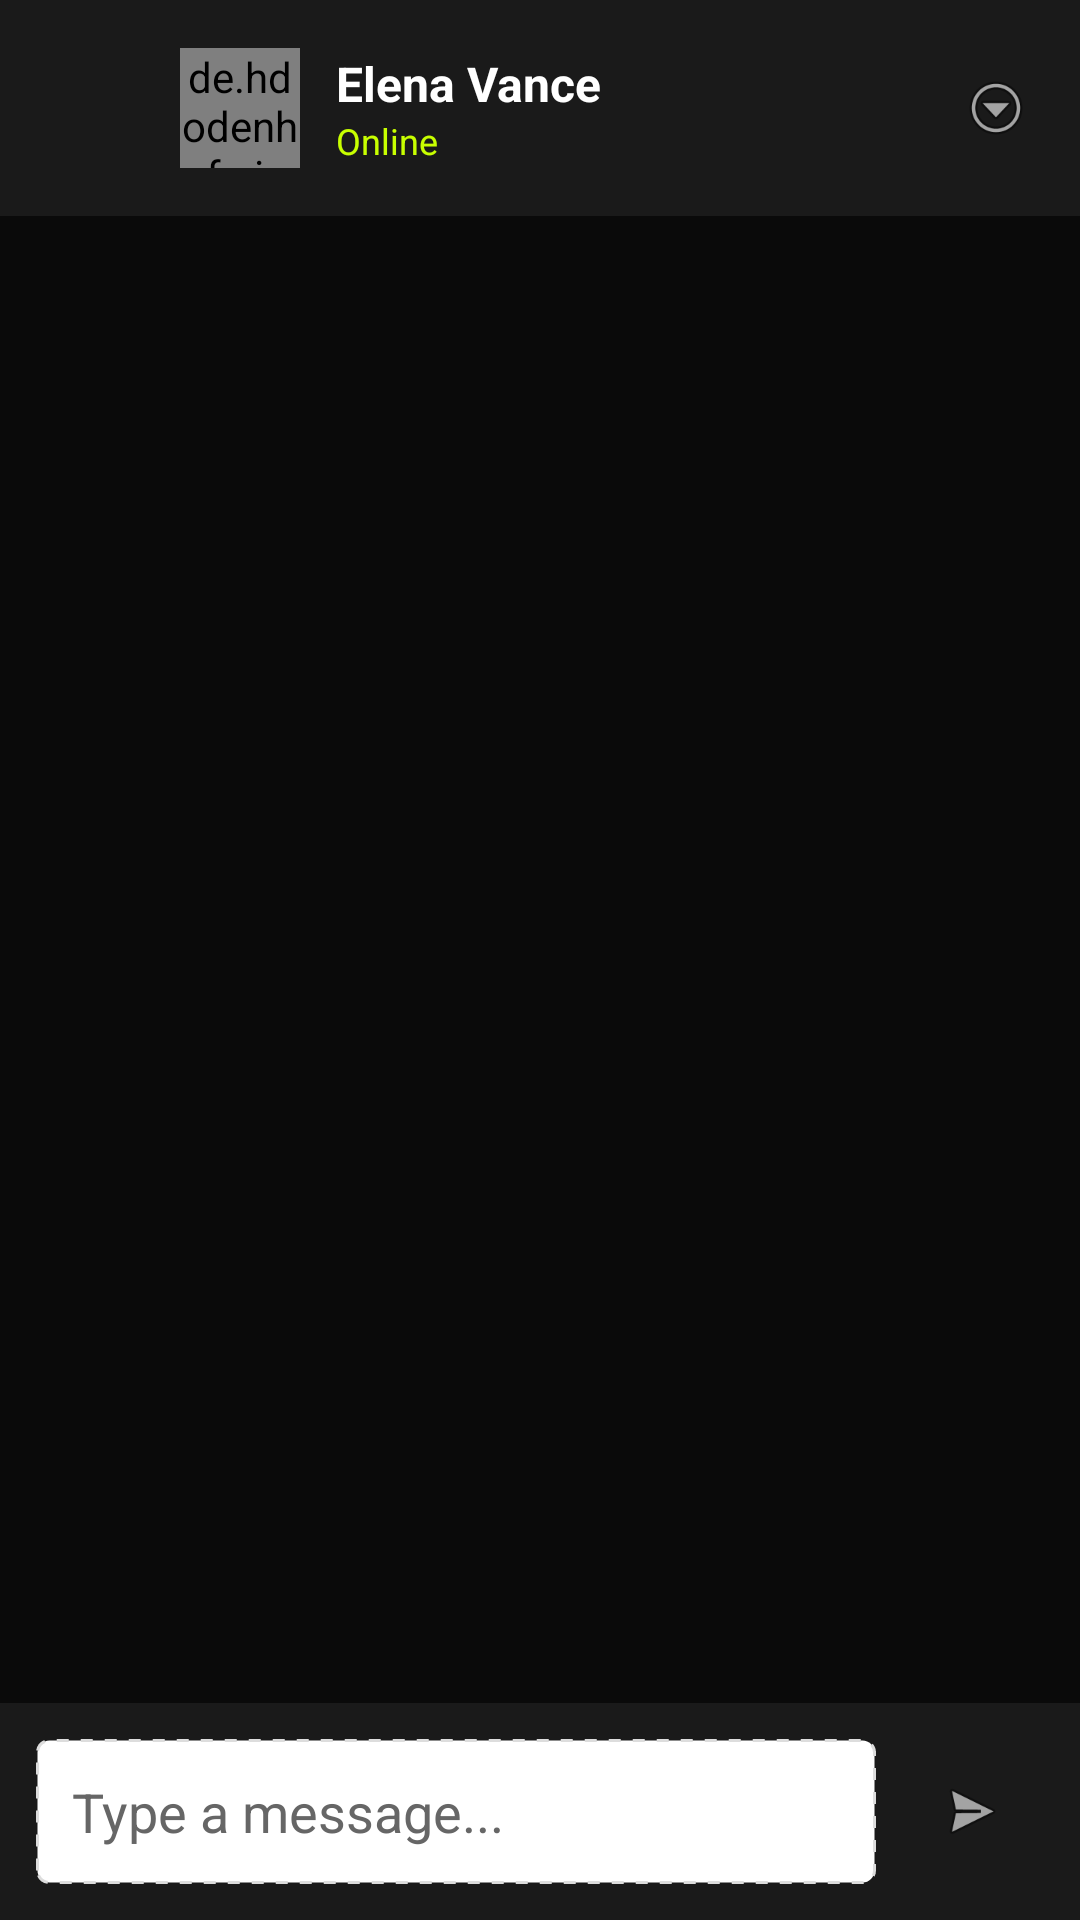

Named icons in this screenshot (1080 x 1920) and their bounding boxes, (x1, y1, x2, y2):
more: (972, 84, 1020, 132)
Send: (952, 1791, 993, 1832)
